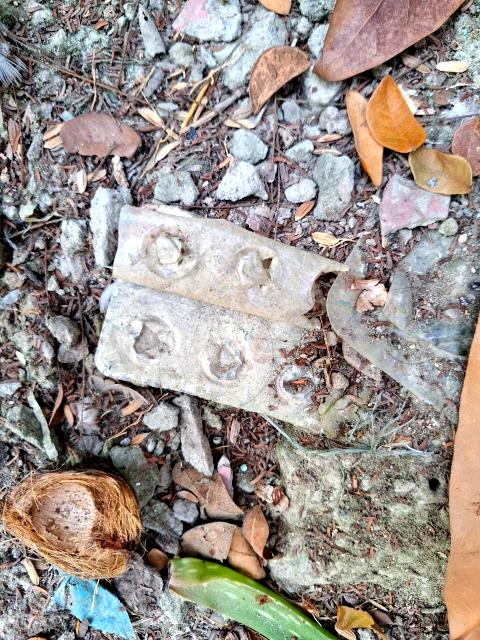medicine: (91, 209, 379, 433)
